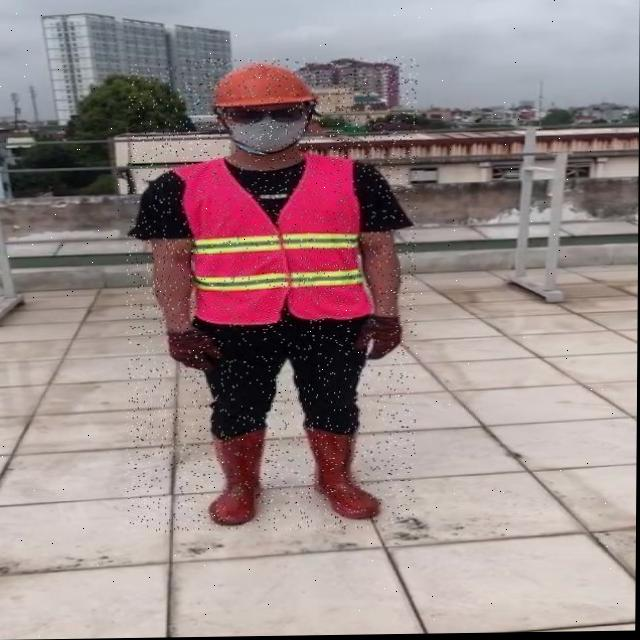Gloves: (167, 327, 219, 372), (354, 315, 403, 361)
Helmet: (210, 63, 319, 157)
Safety-Boot: (305, 425, 382, 521), (208, 425, 266, 526)
Safety-Vest: (167, 152, 375, 328)
